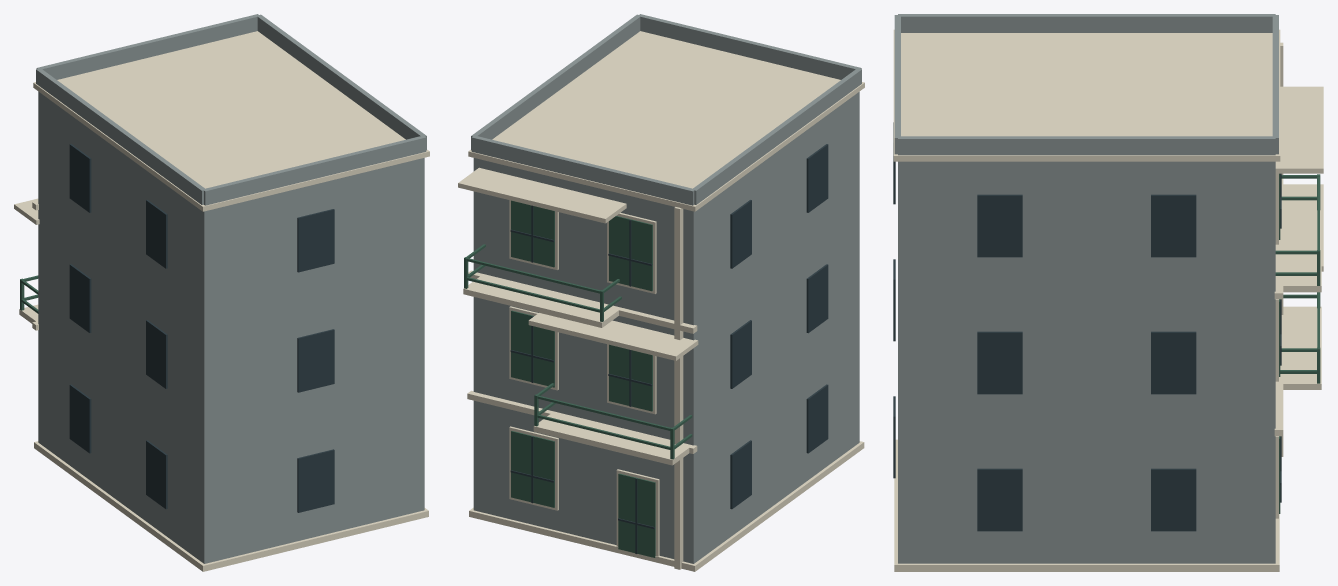
File: KOL_T3_OLD_02.fbx
3 views of the same model, side by side, from view 1: azimuth 30°, elevation 25°; view 2: azimuth 150°, elevation 25°; view 3: azimuth 270°, elevation 25° (orthographic). The views are drawn at different scales.
Parts seen in each view (by area): view 1: KOL_T3_OLD_02__Body, KOL_T3_OLD_02__Trim, KOL_T3_OLD_02__Dark; view 2: KOL_T3_OLD_02__Body, KOL_T3_OLD_02__Trim, KOL_T3_OLD_02__Accent, KOL_T3_OLD_02__Dark; view 3: KOL_T3_OLD_02__Body, KOL_T3_OLD_02__Trim, KOL_T3_OLD_02__Dark, KOL_T3_OLD_02__Accent.
Boxes of the visible parts, <box> form: KOL_T3_OLD_02__Body: <box>36,14,426,563</box>; KOL_T3_OLD_02__Trim: <box>14,31,429,571</box>; KOL_T3_OLD_02__Dark: <box>69,144,334,512</box>; KOL_T3_OLD_02__Body: <box>471,14,861,563</box>; KOL_T3_OLD_02__Trim: <box>458,31,864,571</box>; KOL_T3_OLD_02__Accent: <box>464,200,692,557</box>; KOL_T3_OLD_02__Dark: <box>510,144,828,553</box>; KOL_T3_OLD_02__Body: <box>894,14,1278,563</box>; KOL_T3_OLD_02__Trim: <box>893,29,1323,571</box>; KOL_T3_OLD_02__Dark: <box>893,122,1281,531</box>; KOL_T3_OLD_02__Accent: <box>1275,173,1320,513</box>.
Bounding box in the file's own units: 23.74 × 37.9 × 34.17.
